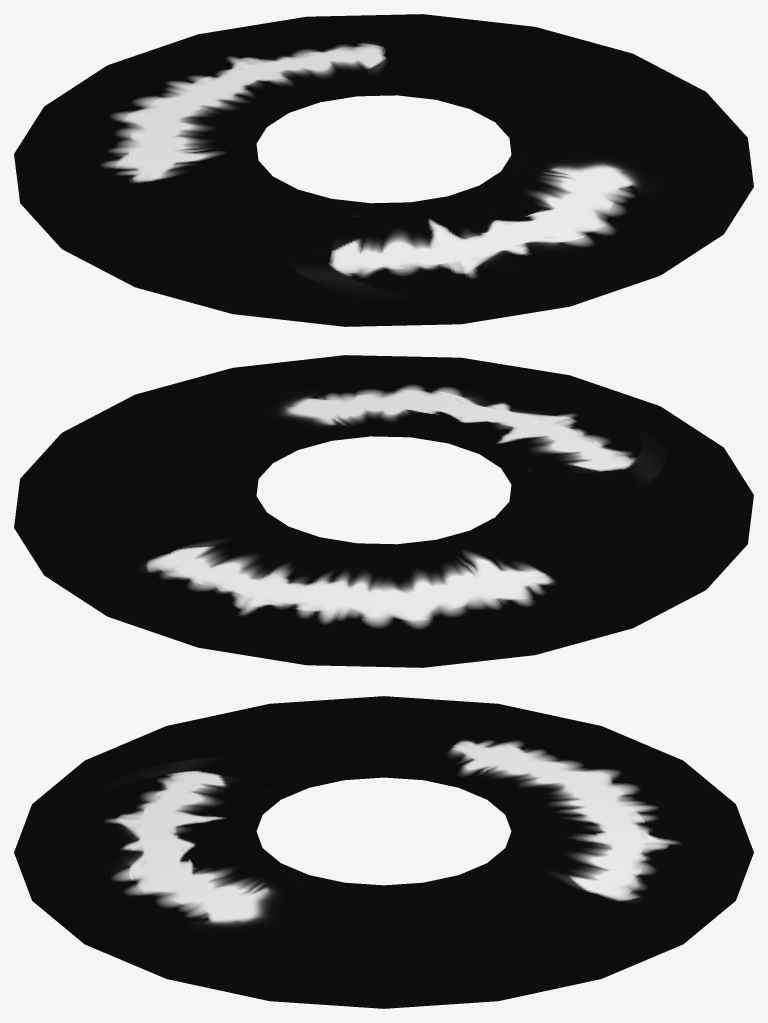
Rendered from Beaker_damage01_FBX.fbx.
3 views of the same model, one above another, from view 1: azimuth 30°, elevation 25°; view 2: azimuth 150°, elevation 25°; view 3: azimuth 270°, elevation 25° (orthographic).
Parts seen in each view (by area): view 1: pCylinder1; view 2: pCylinder1; view 3: pCylinder1.
Part boxes in pixels (x1,y1,x2,y2): pCylinder1: (14,14,753,326); pCylinder1: (14,355,753,667); pCylinder1: (14,696,753,1008).
Bounding box in the file's own units: 13.97 × 0.4384 × 13.97.
